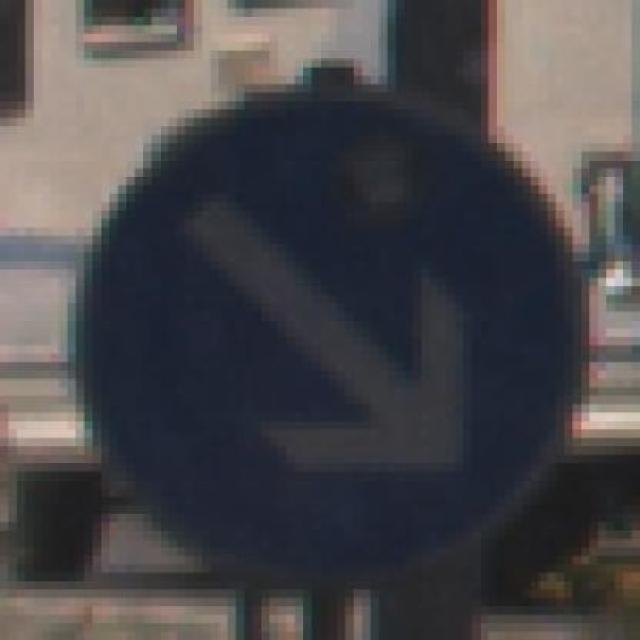Keep-Right: (34, 34, 606, 606)
